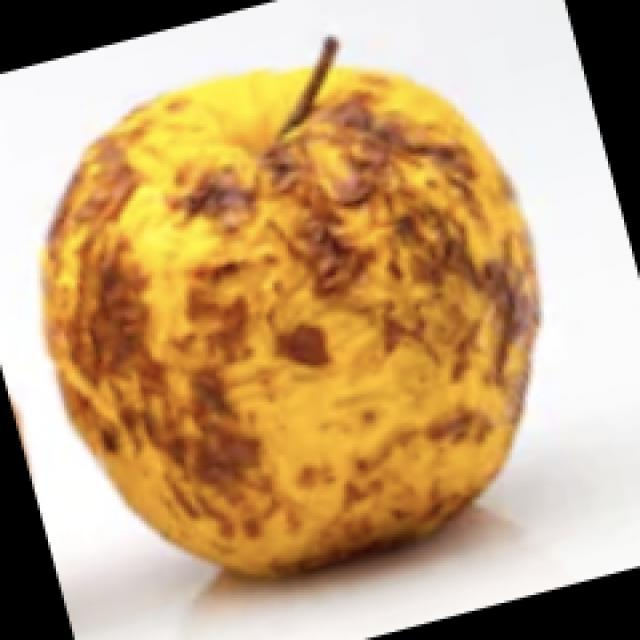Rotten: (33, 55, 540, 577)
